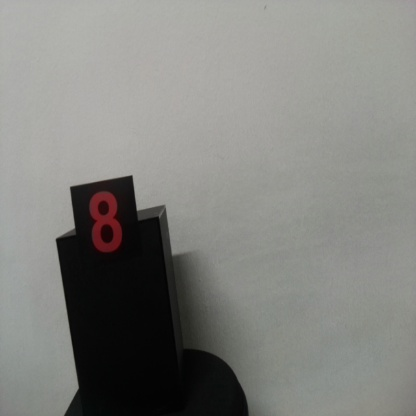id_8: (70, 186, 137, 272)
